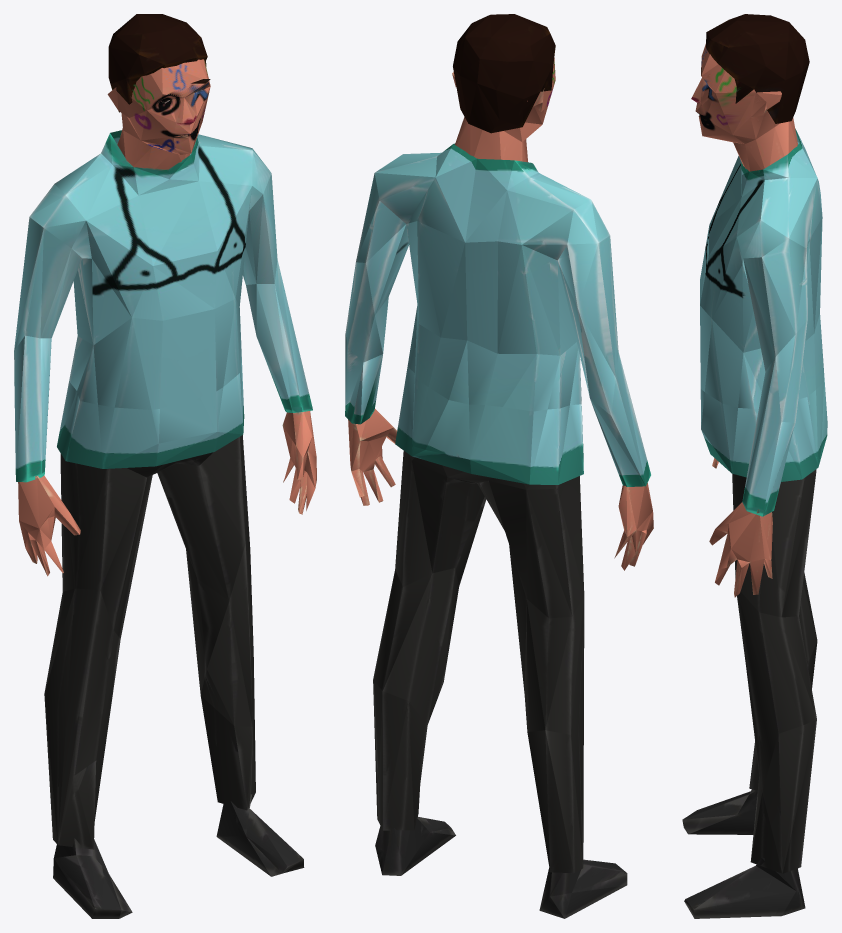
Rendered from corpse (1) 1.fbx.
3 views of the same model, side by side, from view 1: azimuth 30°, elevation 25°; view 2: azimuth 150°, elevation 25°; view 3: azimuth 270°, elevation 25° (orthographic). The views are drawn at different scales.
Parts seen in each view (by area): view 1: Human 2; view 2: Human 2; view 3: Human 2.
Boxes of the visible parts, left/top/right/bottom form: Human 2: left=14, top=14, right=316, bottom=918; Human 2: left=345, top=14, right=653, bottom=918; Human 2: left=682, top=14, right=827, bottom=918.
Bounding box in the file's own units: 60.49 × 167 × 26.09.
Materials: 3 (3 with a texture image).
